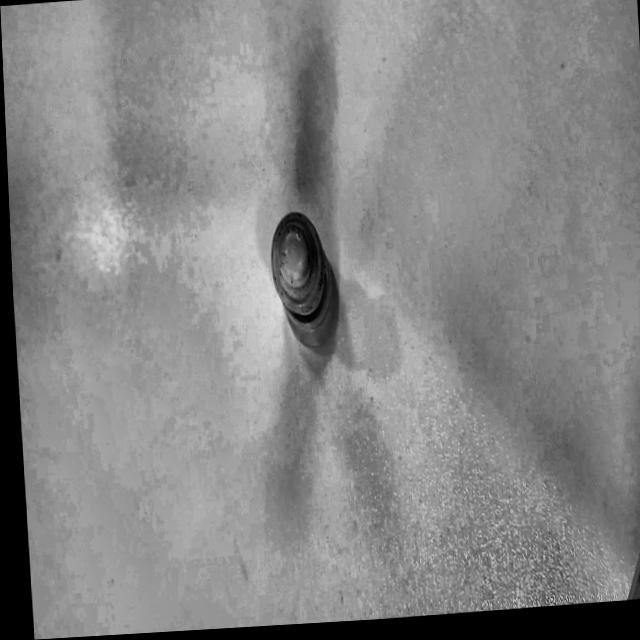white-queen: (215, 167, 366, 435)
